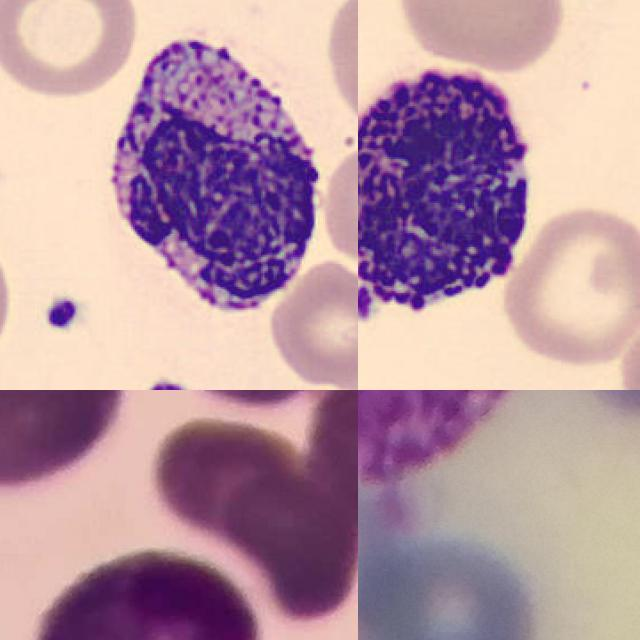Basophil: (87, 18, 334, 337), (358, 49, 543, 347), (358, 390, 542, 485)
Eosinophil: (21, 545, 258, 640)
Platelets: (39, 291, 85, 335), (138, 376, 195, 390)
RBC: (498, 199, 640, 366), (0, 0, 142, 101), (396, 0, 570, 74), (266, 258, 358, 390), (317, 133, 358, 274), (321, 0, 358, 133)
